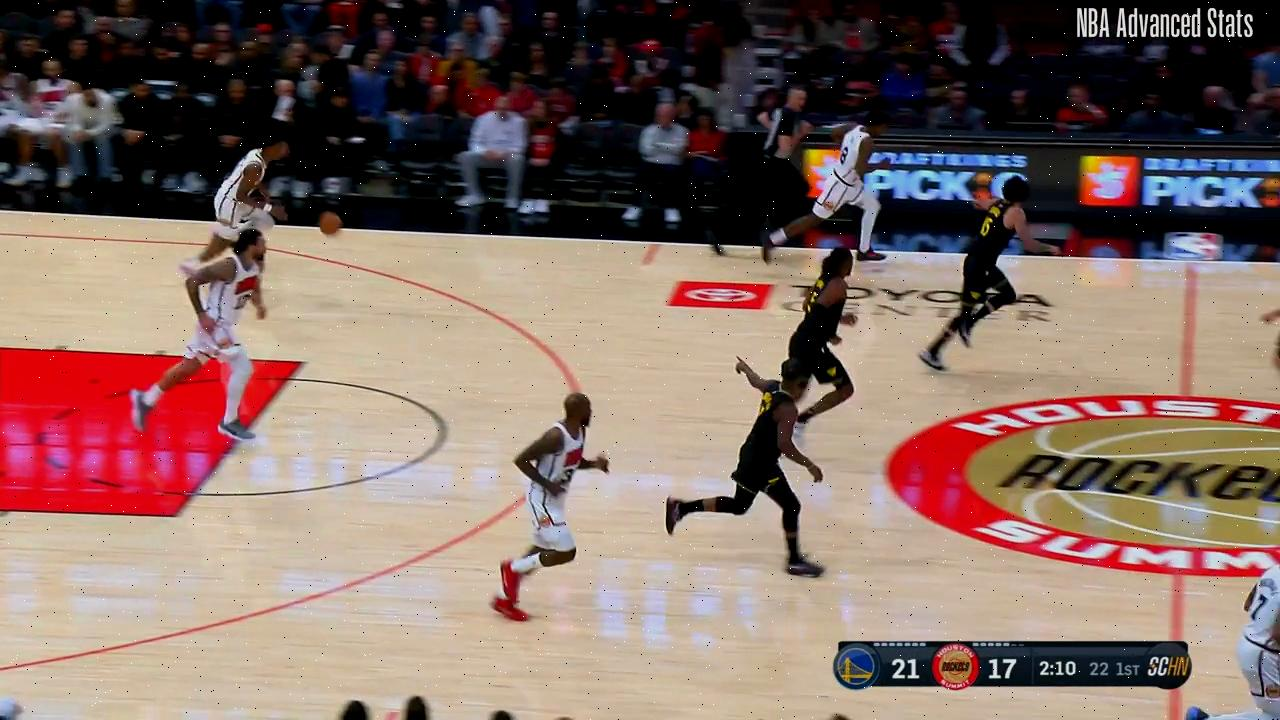basketball: (316, 207, 345, 239)
